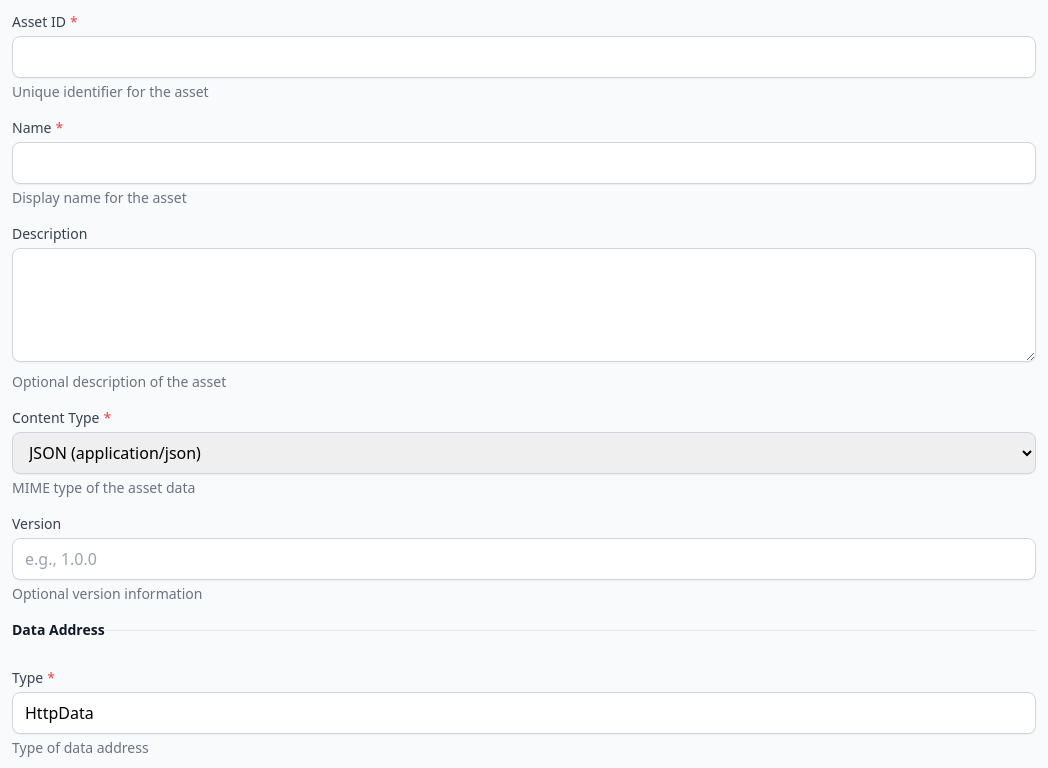
Test case: AssetForm › allows selecting custom MIME type
This screenshot has width=1048, height=768.
Select the "Custom MIME type" option
Select "Custom MIME type..." in the dropdown named "contentType" at (524, 453), box [12,432,1036,474]
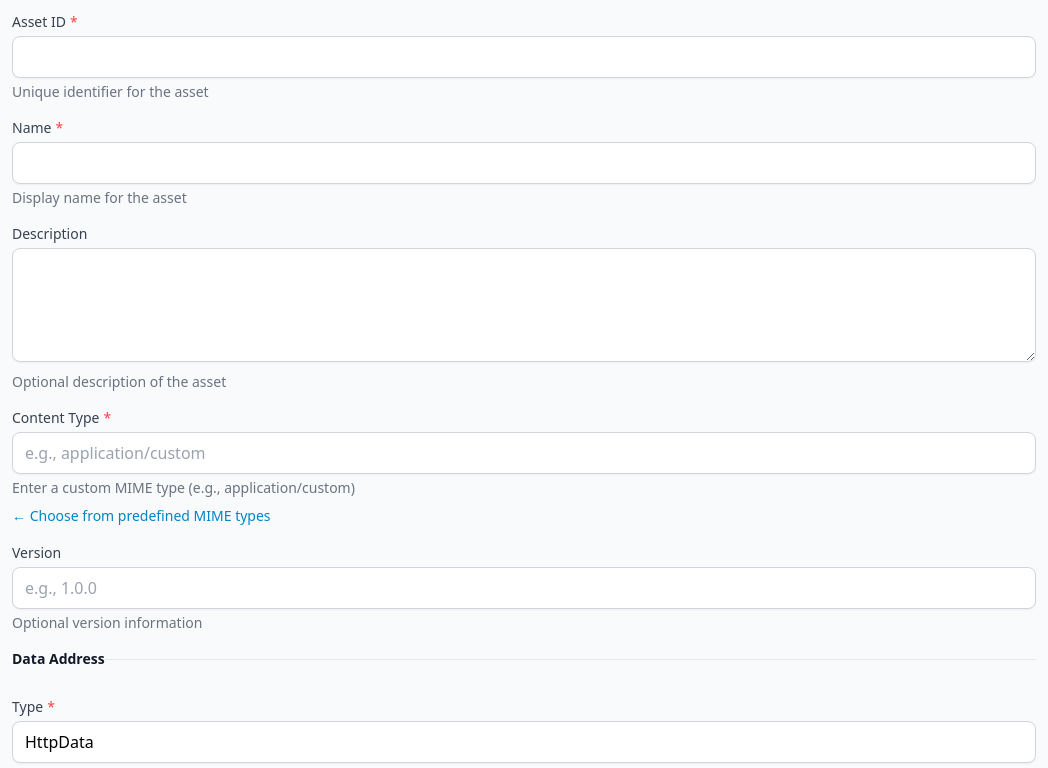
expect the field named "contentType" is shown: met, box [12,432,1036,474]
